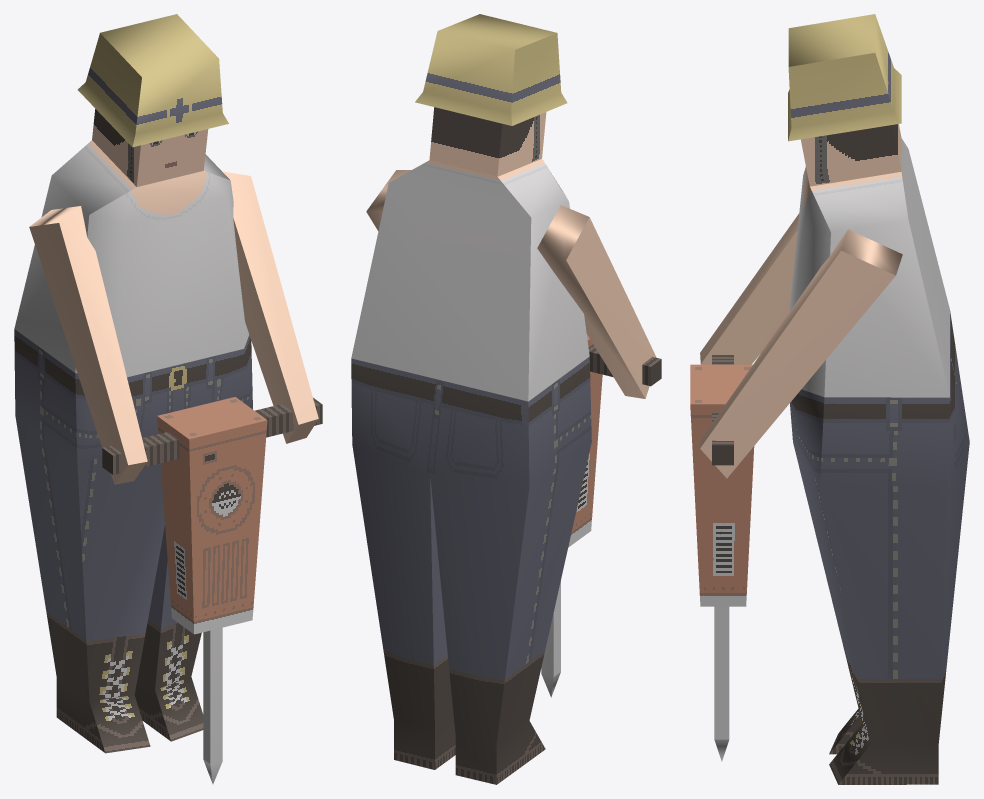
Rendered from 024f_Chief_Driller.glb.
3 renders of one model, left to right at view 1: azimuth 30°, elevation 25°; view 2: azimuth 150°, elevation 25°; view 3: azimuth 270°, elevation 25°, orthographic. The views are drawn at different scales.
Visible parts, largest first — view 1: part_0; view 2: part_0; view 3: part_0.
Part boxes in pixels (box(x1,y1,x2,y2)): part_0: box(14, 14, 322, 784); part_0: box(351, 14, 661, 784); part_0: box(690, 14, 969, 784).
Size of the model in its own units: 0.5351 by 1.72 by 0.5995.
1 material, 1 textured.
